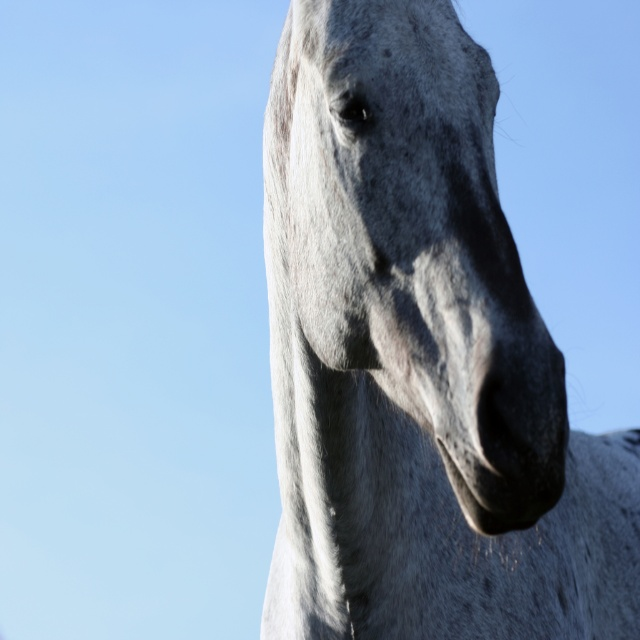Horse: (259, 0, 640, 639)
